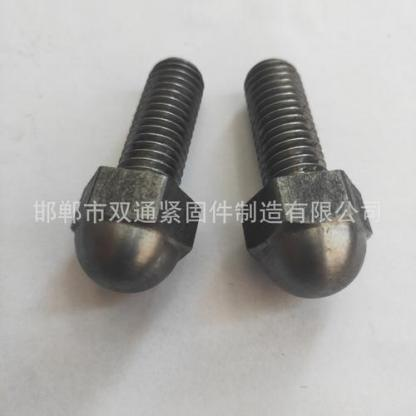FOD: (233, 54, 377, 301), (68, 54, 214, 296)
